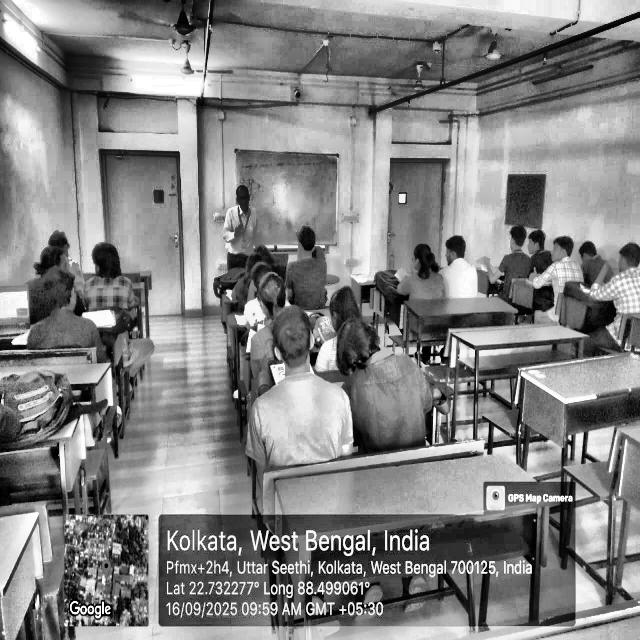Focus: (503, 198, 640, 342), (28, 266, 93, 350), (229, 182, 286, 266), (404, 223, 477, 286), (262, 253, 318, 334), (291, 227, 345, 298)
Not Focus: (237, 310, 400, 388), (47, 224, 83, 293), (93, 238, 125, 300)
